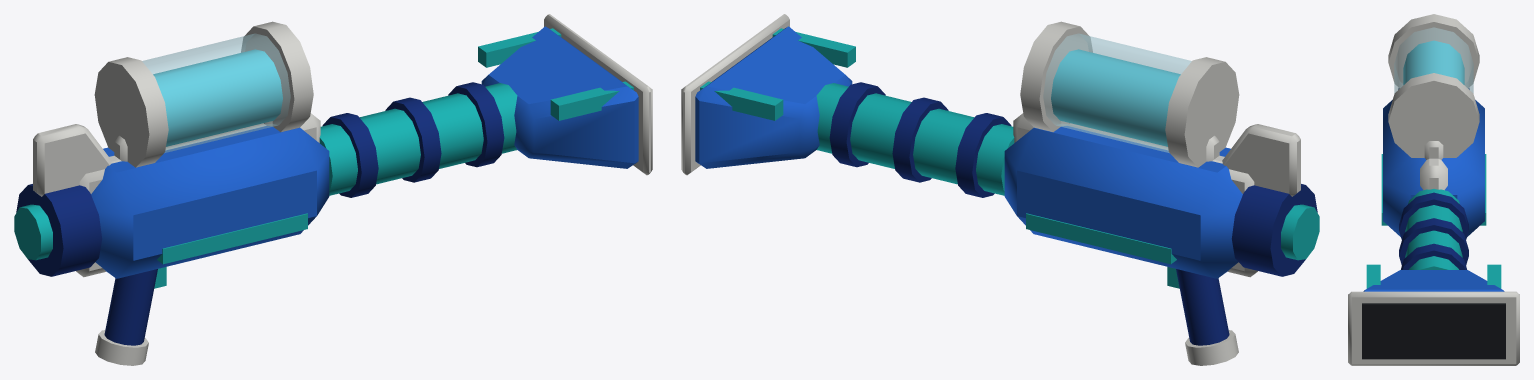
The model's file is vac_3.glb.
3 views of the same model, side by side, from view 1: azimuth 30°, elevation 25°; view 2: azimuth 150°, elevation 25°; view 3: azimuth 270°, elevation 25° (orthographic). The views are drawn at different scales.
Visible parts, largest first — view 1: Body; view 2: Body; view 3: Body.
Boxes of the visible parts, box(x1,y1,x2,y2) form: Body: box(14, 14, 652, 365); Body: box(681, 14, 1319, 365); Body: box(1348, 14, 1519, 365).
Bounding box in the file's own units: 1.2 × 0.5847 × 0.37.
